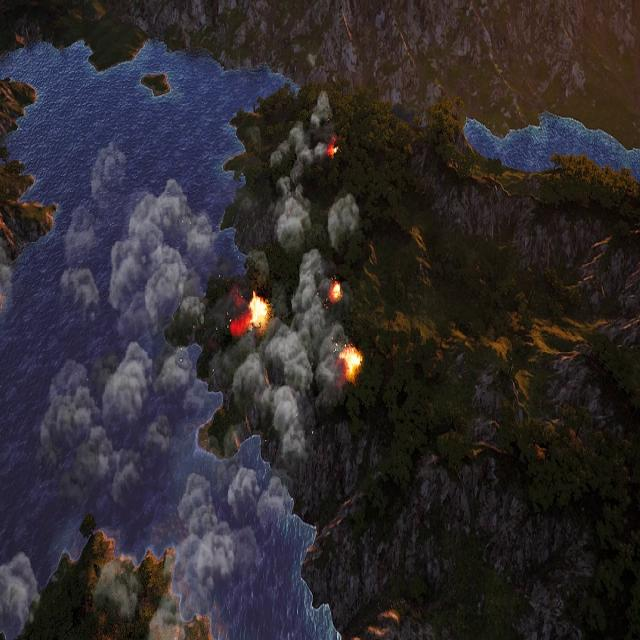fire: (233, 294, 270, 337), (341, 345, 363, 379), (328, 282, 341, 302), (327, 138, 338, 158)
smoke: (45, 151, 224, 509), (220, 92, 356, 514), (144, 467, 286, 639), (0, 547, 40, 636), (91, 555, 140, 619), (0, 224, 13, 348)
